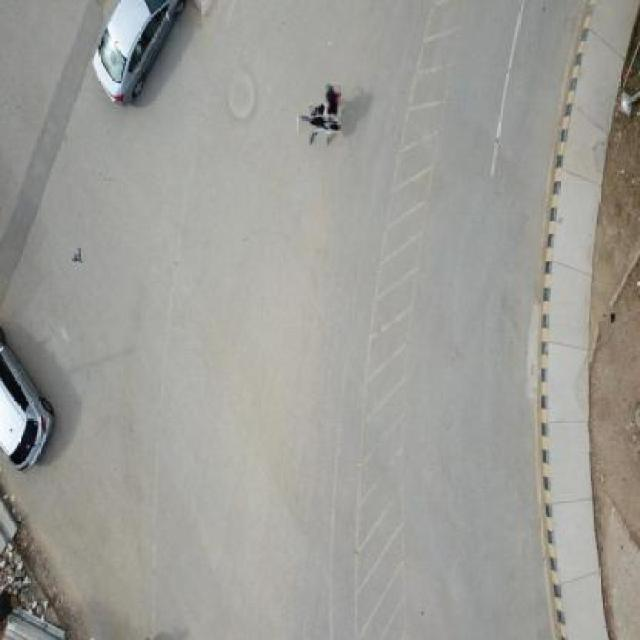Person: (304, 110, 334, 141), (326, 83, 342, 119)
